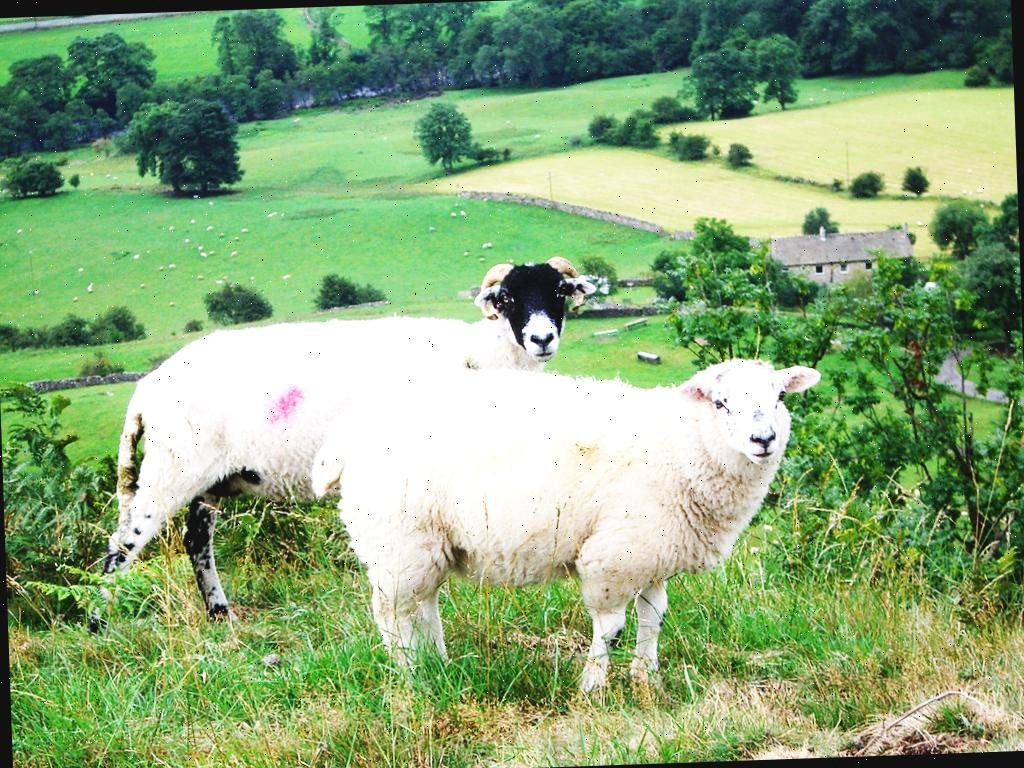Sheep: (74, 254, 608, 634), (308, 350, 832, 714)
